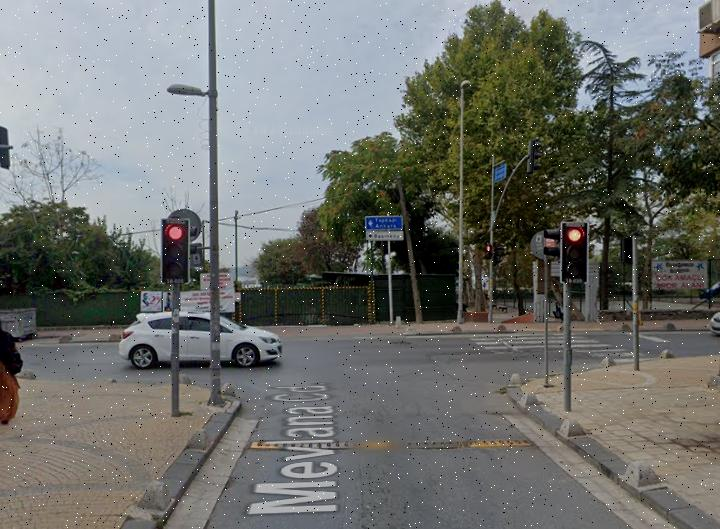redlight: (162, 219, 187, 279), (562, 223, 587, 280)
